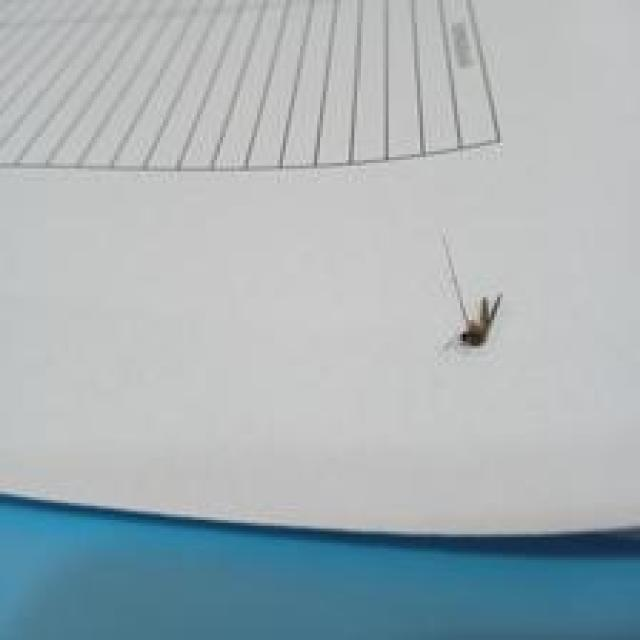Culex: (439, 228, 504, 352)
